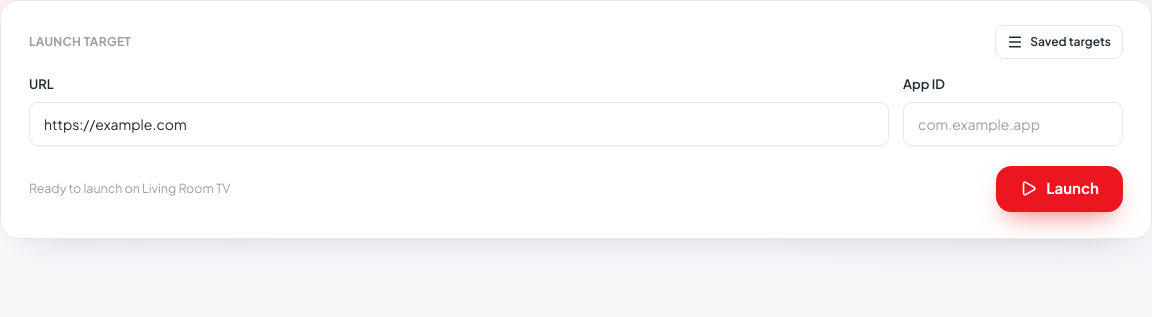
Test case: LaunchSection › launches with the entered URL and shows the returned success message
Click the button "Launch" at [1060, 188], box 996,166 -> 1123,212
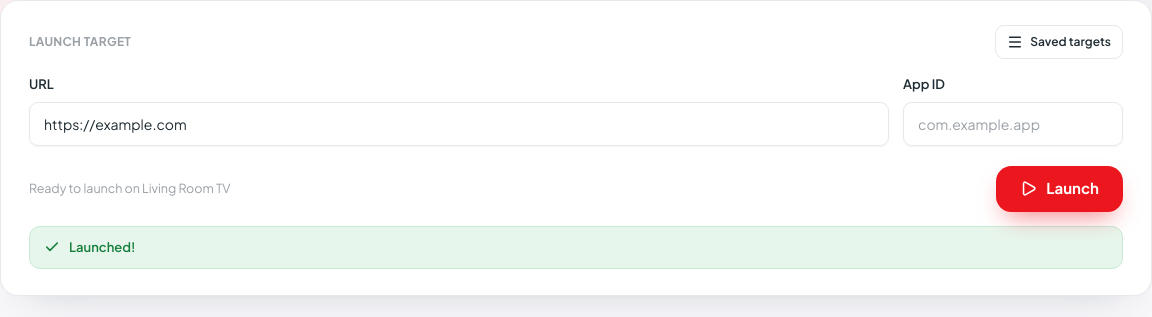
expect the text "Launched!" is shown: met, box 29,226 -> 1123,269
